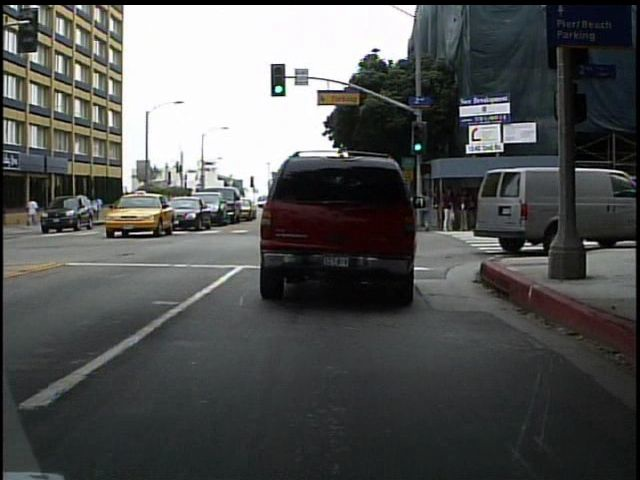person: (505, 173, 528, 237), (23, 194, 42, 230)
